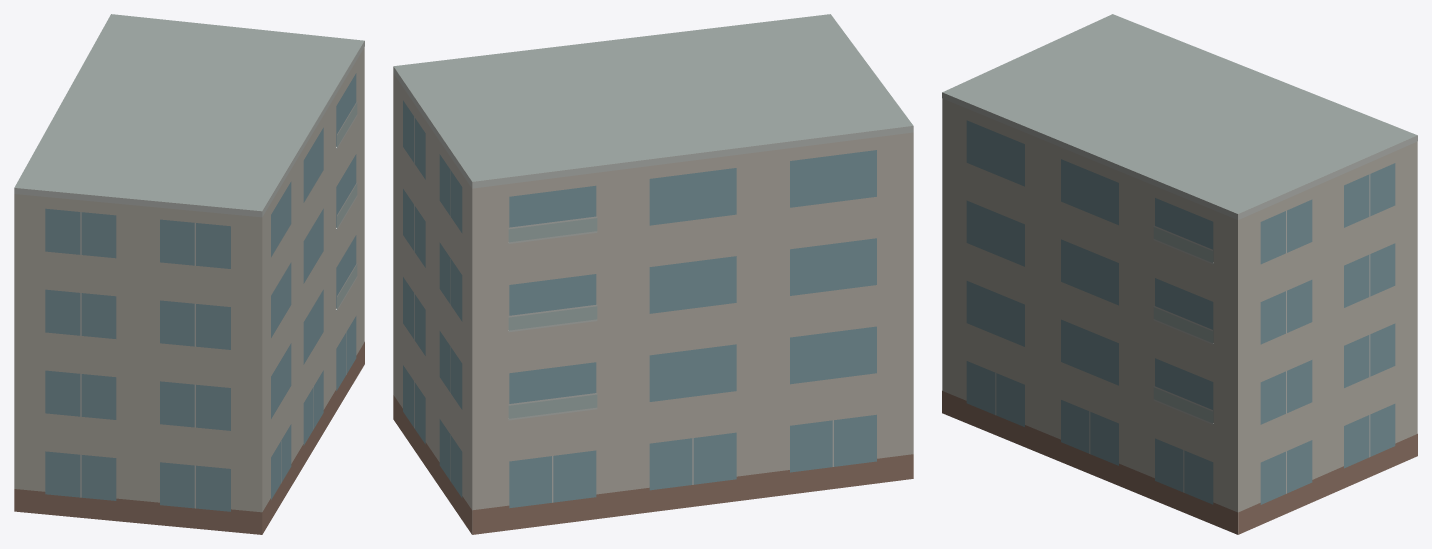
Rendered from survey-upis-32740080.glb.
3 views of the same model, side by side, from view 1: azimuth 30°, elevation 25°; view 2: azimuth 150°, elevation 25°; view 3: azimuth 270°, elevation 25° (orthographic). The views are drawn at different scales.
Parts seen in each view (by area): view 1: survey-upis-32740080.tmp; view 2: survey-upis-32740080.tmp; view 3: survey-upis-32740080.tmp.
Boxes of the visible parts, bbox=[...] form: survey-upis-32740080.tmp: bbox=[14, 14, 364, 534]; survey-upis-32740080.tmp: bbox=[393, 14, 913, 534]; survey-upis-32740080.tmp: bbox=[942, 14, 1417, 534].
Size of the model in its own units: 17.27 by 12.9 by 17.34.
